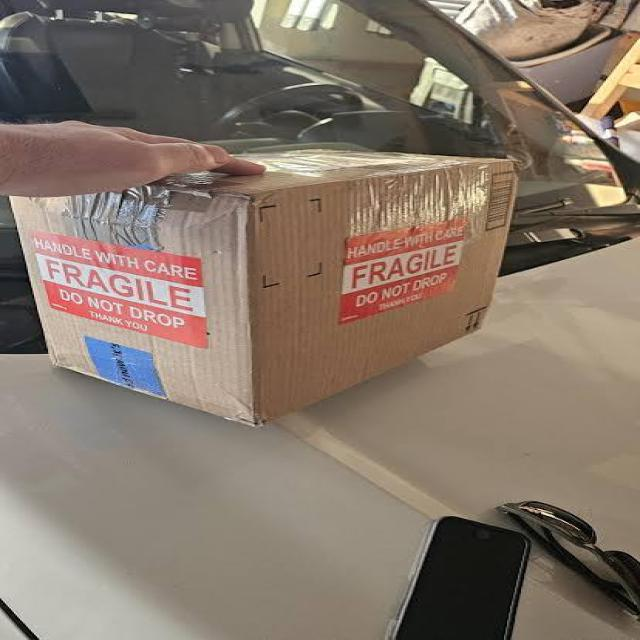carton_box: (18, 140, 525, 420)
fragile_label: (20, 225, 223, 348), (340, 228, 469, 304)
